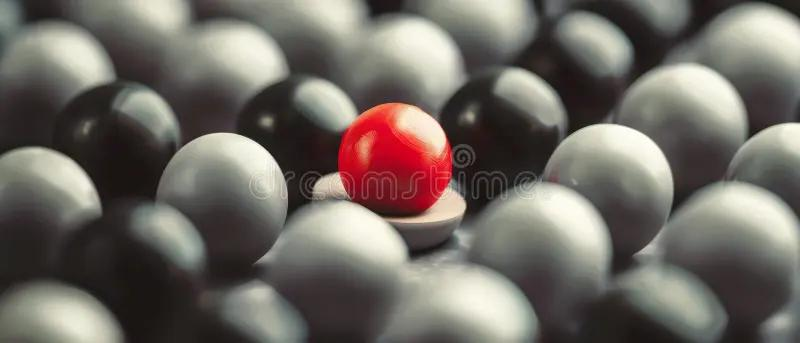Red_Ball: (323, 96, 462, 215)
